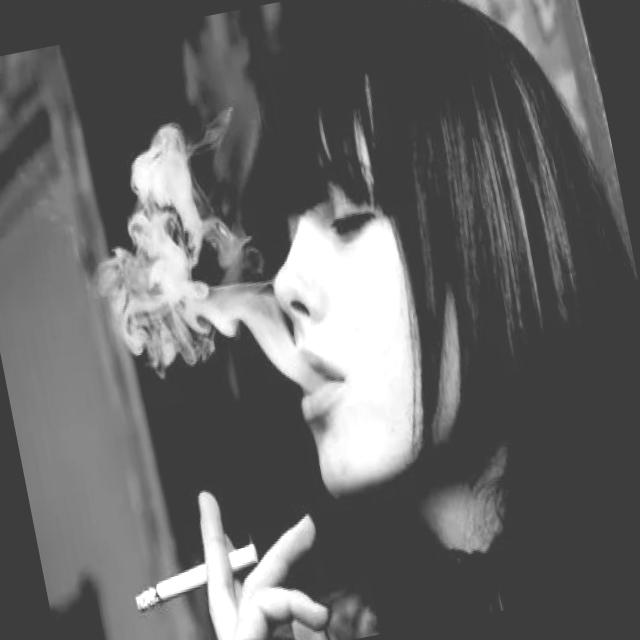smoke: (126, 534, 270, 614)
